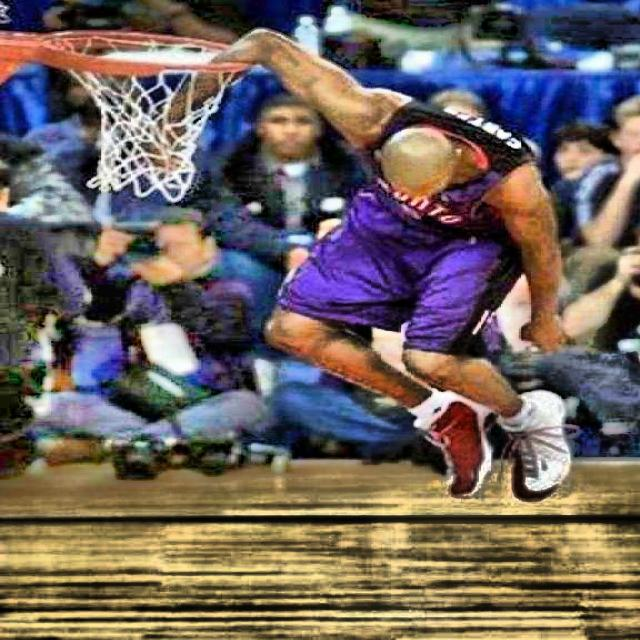rim: (38, 31, 246, 199)
